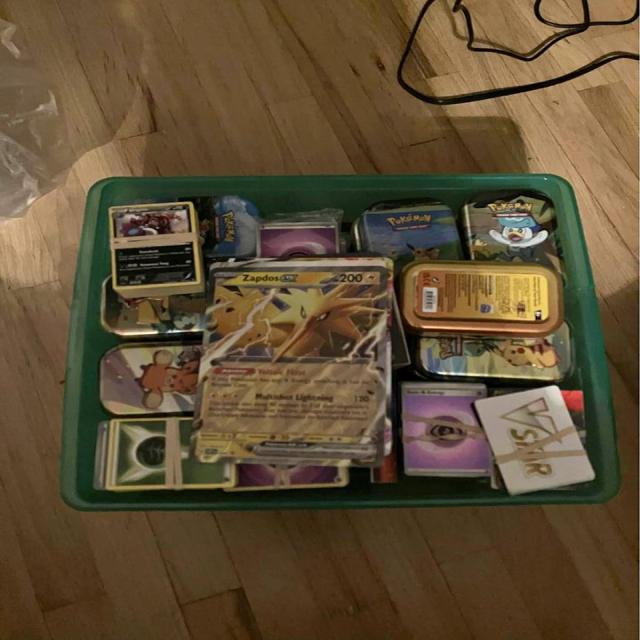card: (189, 265, 388, 468), (105, 416, 235, 491), (401, 382, 493, 477), (108, 201, 200, 289), (256, 220, 340, 257)
